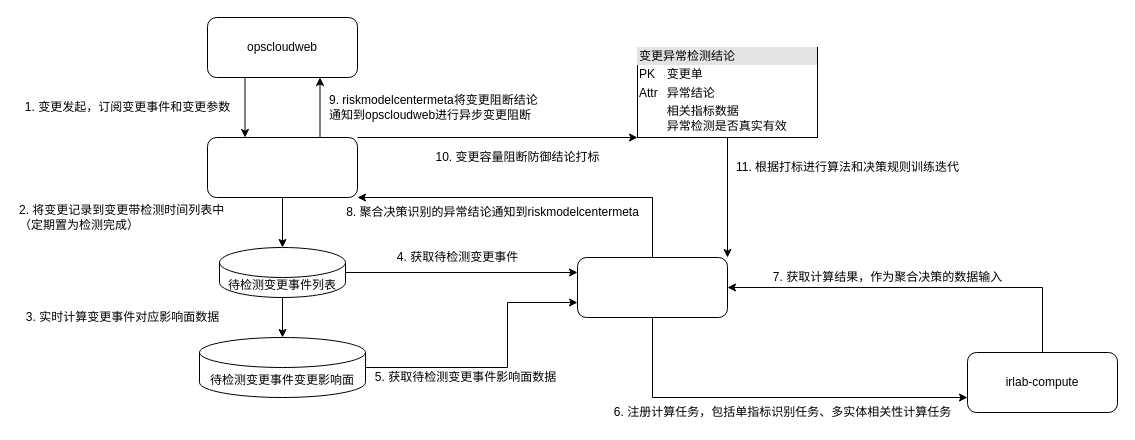
The diagram is 1135 pixels wide and 440 high, and some of its shapes have lost their labels. Here are the shapes that lost their labels. From the top down, the centre of each, then its label:
the point at 282,167: riskmodelcentermeta
the point at 652,287: riskmodelcenter-pontus
